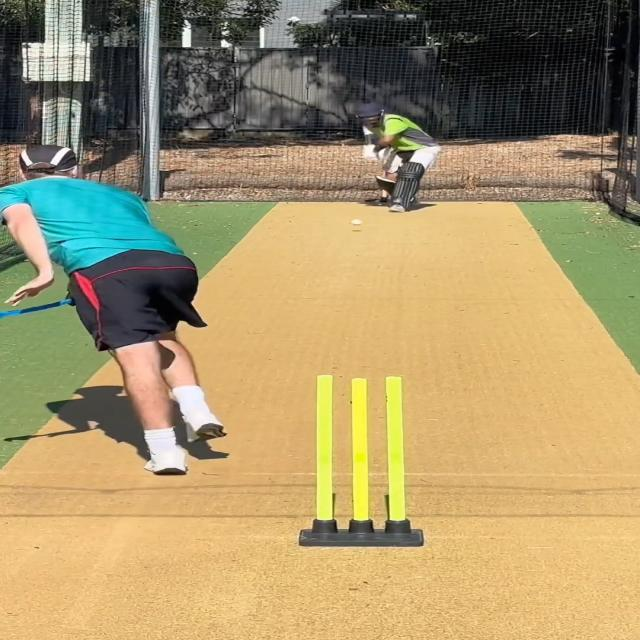ball: (349, 217, 364, 227)
stump: (297, 373, 426, 548)
